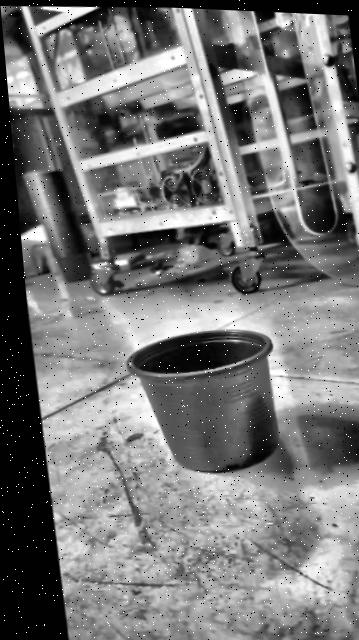pot: (122, 324, 288, 478)
